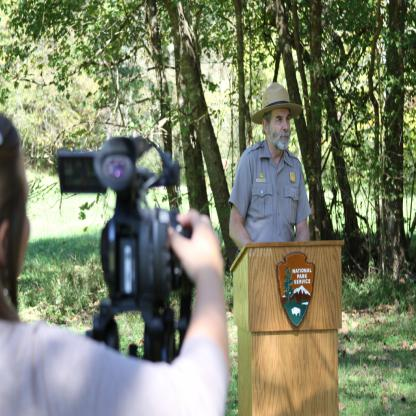Camera: (58, 138, 197, 369)
